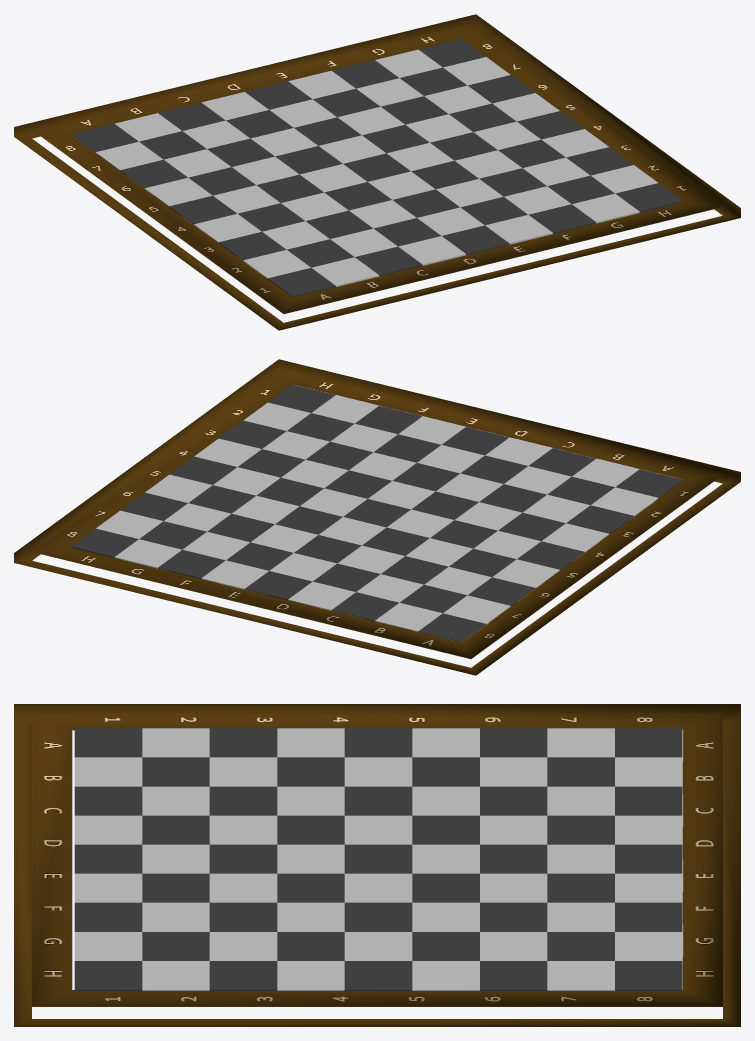
The model's file is Chessboard_subtract_object 1.glb.
3 views of the same model, one above another, from view 1: azimuth 30°, elevation 25°; view 2: azimuth 150°, elevation 25°; view 3: azimuth 270°, elevation 25° (orthographic). The views are drawn at different scales.
Parts seen in each view (by area): view 1: Plane.289, Tile_R01_C01_Black, Tile_R01_C06_White, Tile_R01_C02_White, Tile_R01_C04_White, Tile_R01_C08_White, Tile_R01_C05_Black, Tile_R01_C07_Black, Tile_R01_C03_Black, Tile_R01_C09_Black, Tile_R02_C01_White, Tile_R06_C01_White (+70 smaller); view 2: Plane.289, Tile_R09_C01_Black, Tile_R09_C06_White, Tile_R09_C04_White, Tile_R09_C08_White, Tile_R09_C02_White, Tile_R09_C09_Black, Tile_R09_C03_Black, Tile_R09_C05_Black, Tile_R09_C07_Black, Tile_R04_C01_White, Tile_R08_C01_White (+70 smaller); view 3: Plane.289, Tile_R01_C02_White, Tile_R01_C09_Black, Tile_R03_C02_White, Tile_R03_C09_Black, Tile_R05_C02_White, Tile_R05_C09_Black, Tile_R01_C01_Black, Tile_R01_C03_Black, Tile_R01_C04_White, Tile_R01_C05_Black, Tile_R01_C06_White (+70 smaller).
Part boxes in pixels (left/top/right/bottom): Plane.289: left=14, top=14, right=740, bottom=330; Tile_R01_C01_Black: left=268, top=268, right=335, bottom=296; Tile_R01_C06_White: left=485, top=215, right=552, bottom=244; Tile_R01_C02_White: left=311, top=257, right=379, bottom=286; Tile_R01_C04_White: left=398, top=236, right=465, bottom=265; Tile_R01_C08_White: left=572, top=193, right=639, bottom=223; Tile_R01_C05_Black: left=442, top=225, right=509, bottom=255; Tile_R01_C07_Black: left=528, top=204, right=596, bottom=233; Tile_R01_C03_Black: left=355, top=246, right=422, bottom=276; Tile_R01_C09_Black: left=615, top=183, right=683, bottom=212; Tile_R02_C01_White: left=243, top=250, right=310, bottom=278; Tile_R06_C01_White: left=144, top=178, right=212, bottom=206; Plane.289: left=14, top=359, right=740, bottom=675; Tile_R09_C01_Black: left=418, top=613, right=486, bottom=642; Tile_R09_C06_White: left=201, top=560, right=268, bottom=589; Tile_R09_C04_White: left=288, top=581, right=355, bottom=610; Tile_R09_C08_White: left=114, top=539, right=181, bottom=568; Tile_R09_C02_White: left=375, top=602, right=442, bottom=631; Tile_R09_C09_Black: left=71, top=528, right=138, bottom=557; Tile_R09_C03_Black: left=331, top=592, right=398, bottom=621; Tile_R09_C05_Black: left=244, top=571, right=312, bottom=599; Tile_R09_C07_Black: left=158, top=550, right=225, bottom=578; Tile_R04_C01_White: left=542, top=523, right=609, bottom=552; Tile_R08_C01_White: left=443, top=595, right=510, bottom=624; Plane.289: left=14, top=704, right=740, bottom=1026; Tile_R01_C02_White: left=74, top=757, right=142, bottom=786; Tile_R01_C09_Black: left=74, top=961, right=142, bottom=990; Tile_R03_C02_White: left=209, top=757, right=277, bottom=786; Tile_R03_C09_Black: left=209, top=961, right=277, bottom=990; Tile_R05_C02_White: left=344, top=757, right=412, bottom=786; Tile_R05_C09_Black: left=344, top=961, right=412, bottom=990; Tile_R01_C01_Black: left=74, top=728, right=142, bottom=757; Tile_R01_C03_Black: left=74, top=786, right=142, bottom=815; Tile_R01_C04_White: left=74, top=815, right=142, bottom=844; Tile_R01_C05_Black: left=74, top=844, right=142, bottom=873; Tile_R01_C06_White: left=74, top=873, right=142, bottom=902.
Bounding box in the file's own units: 31.73 × 0.6439 × 31.5.
4 materials, 1 textured.
